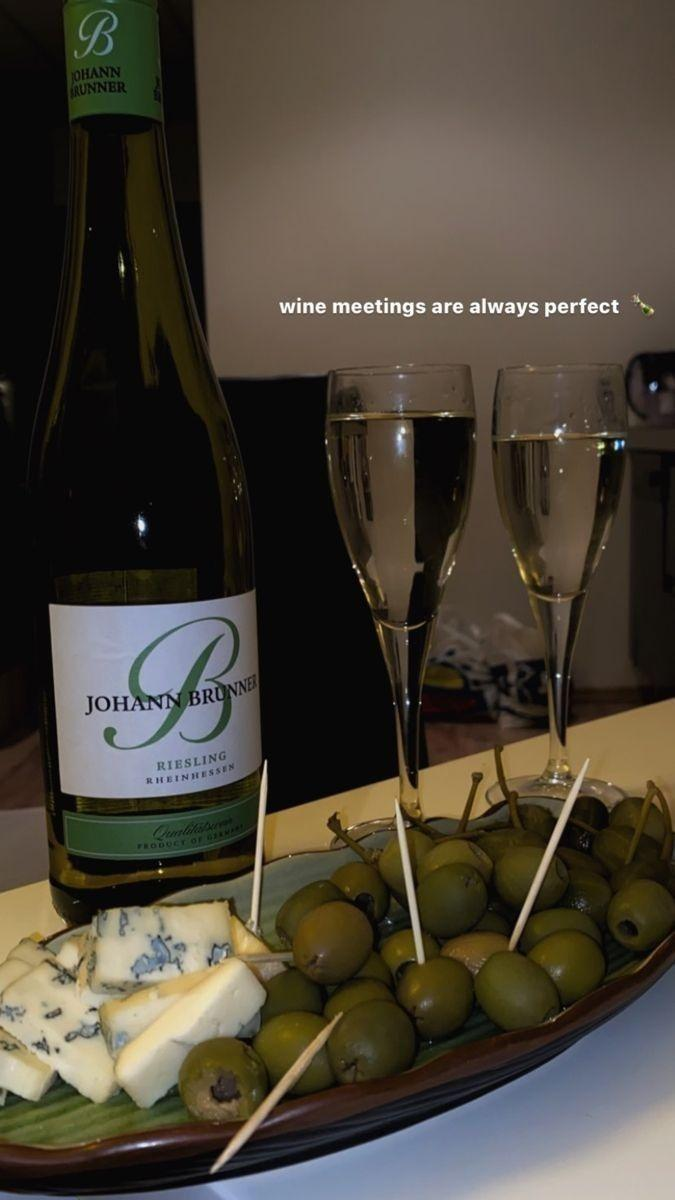bottle-glass: (19, 11, 274, 960)
glass-wine: (315, 357, 495, 880), (480, 357, 640, 814)
